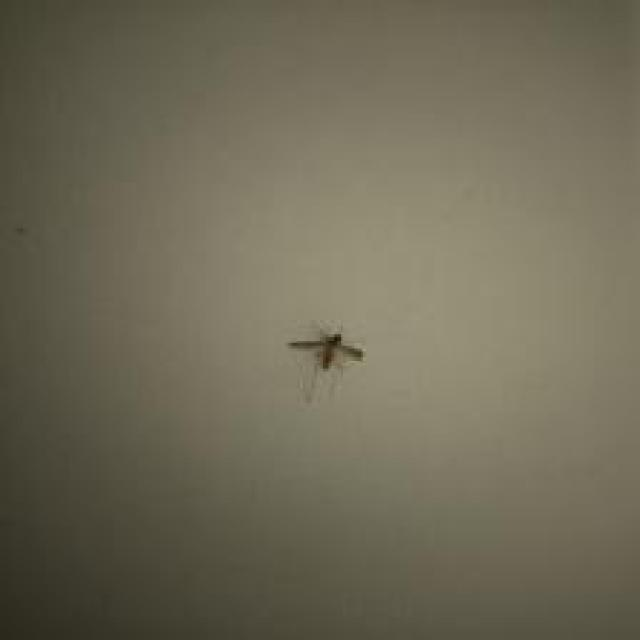Culex: (286, 322, 366, 404)
